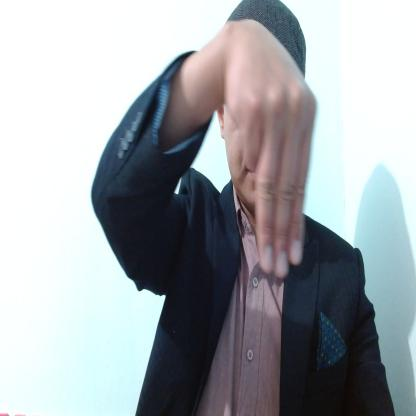M: (222, 20, 316, 282)
